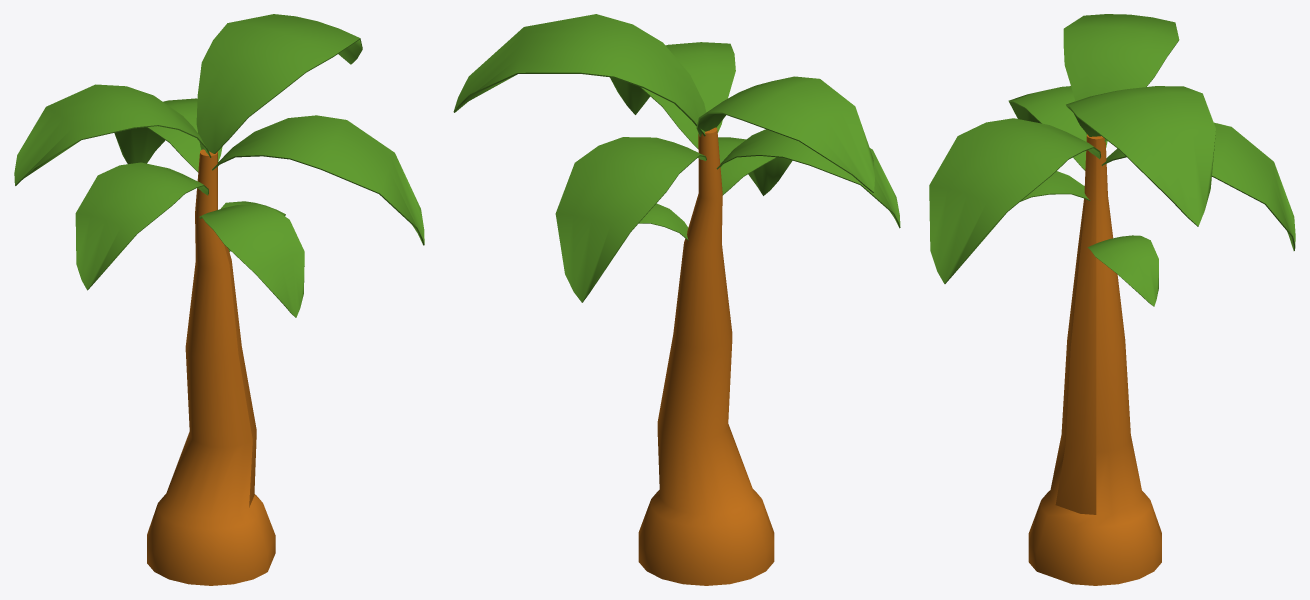
Rendered from palmtree2.FBX.
3 renders of one model, left to right at view 1: azimuth 30°, elevation 25°; view 2: azimuth 150°, elevation 25°; view 3: azimuth 270°, elevation 25°, orthographic. The views are drawn at different scales.
Visible parts, largest first — view 1: DatePlant; view 2: DatePlant; view 3: DatePlant.
Boxes of the visible parts, x1,y1,x2,y2 form: DatePlant: (14, 14, 424, 585); DatePlant: (453, 14, 900, 585); DatePlant: (929, 14, 1295, 585).
Size of the model in its own units: 234 by 297 by 195.
